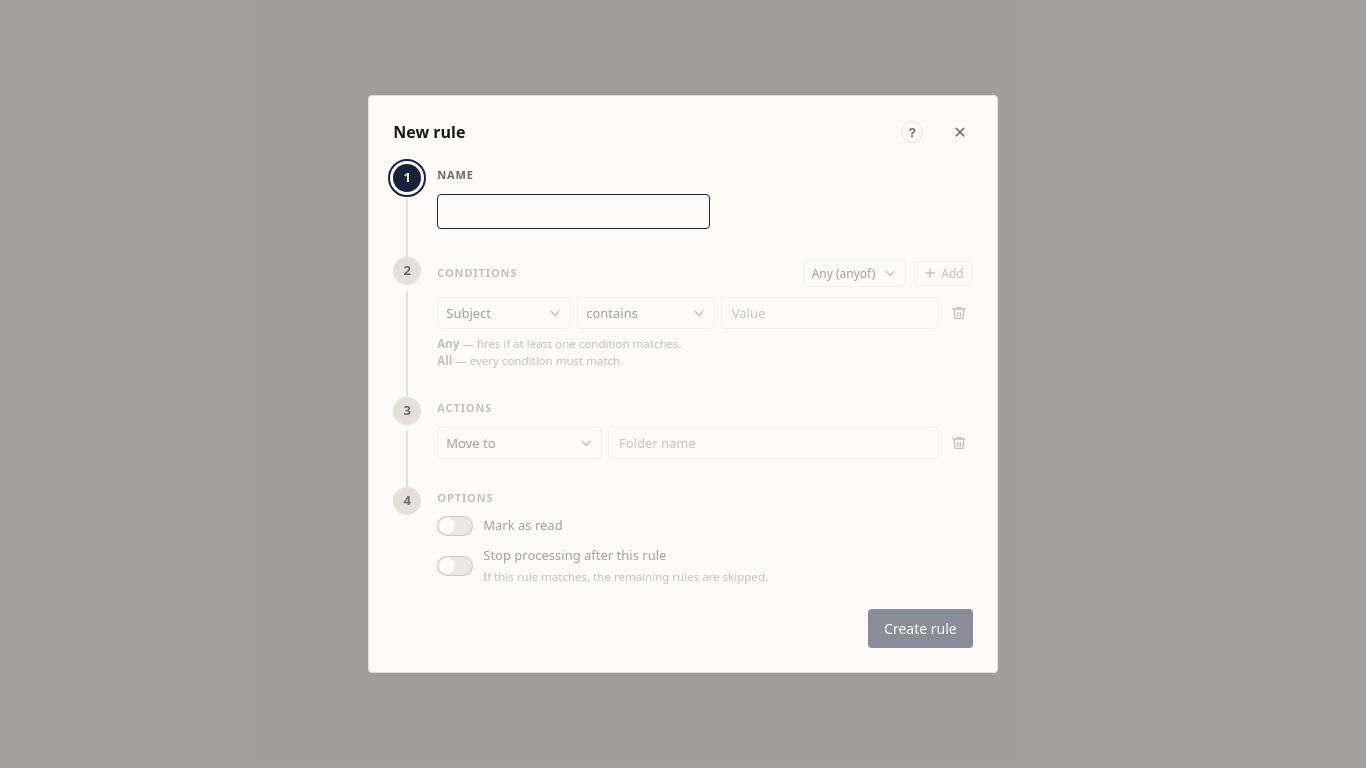
Test case: Wizard step gating › enables Create rule only once a valid action exists
The image size is (1366, 768).
In the 1st field: (573, 211) [437,194,710,229], type "My rule"
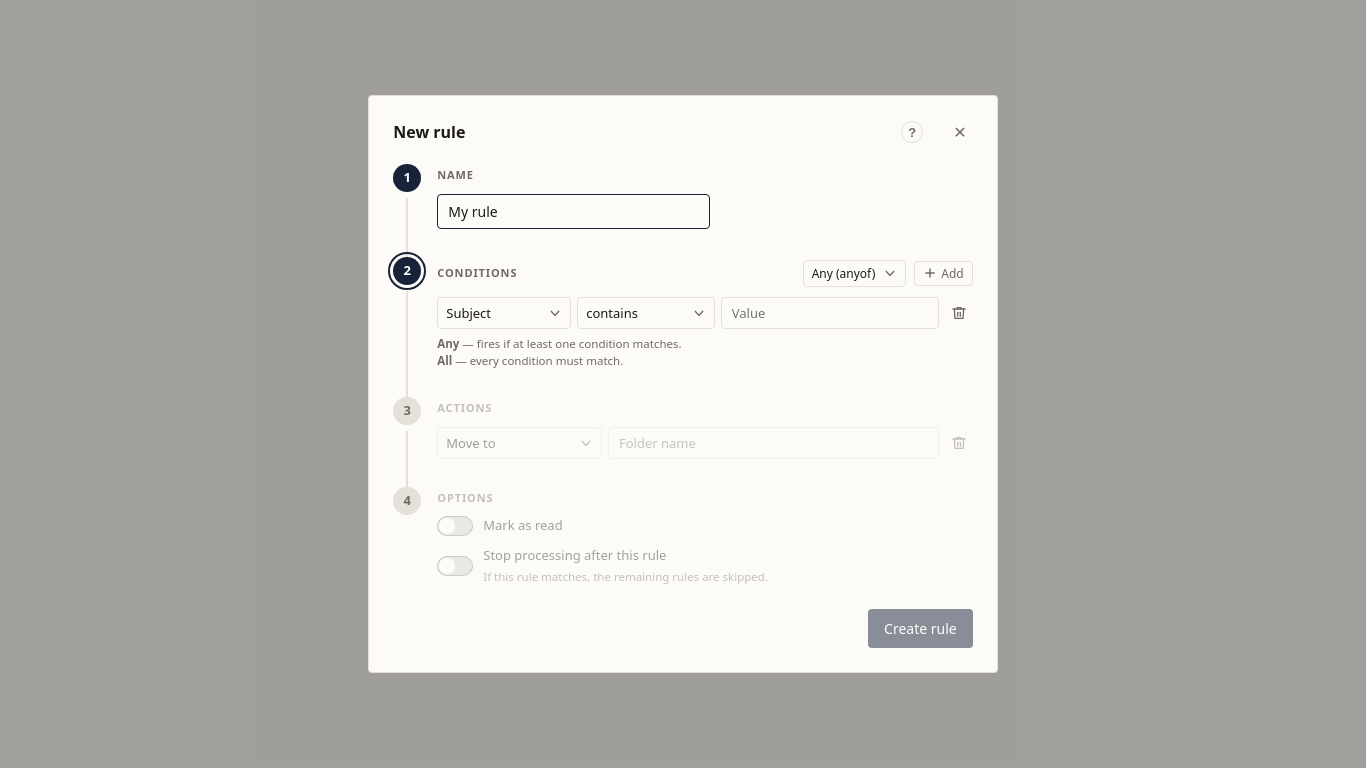
In the field with placeholder "Value": (830, 313) [721,297,939,329], type "urgent"
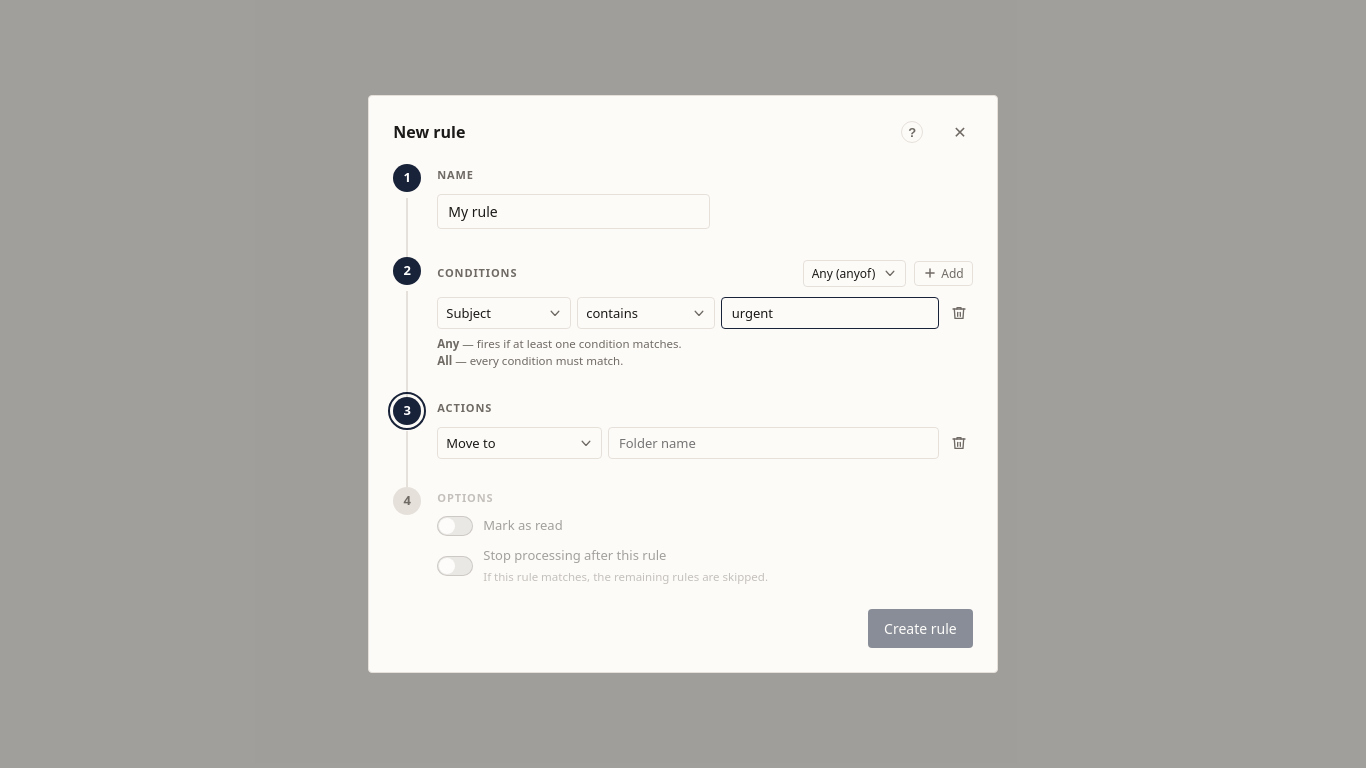
In the field with placeholder "Folder name": (773, 443) [608,427,939,459], type "Urgent"
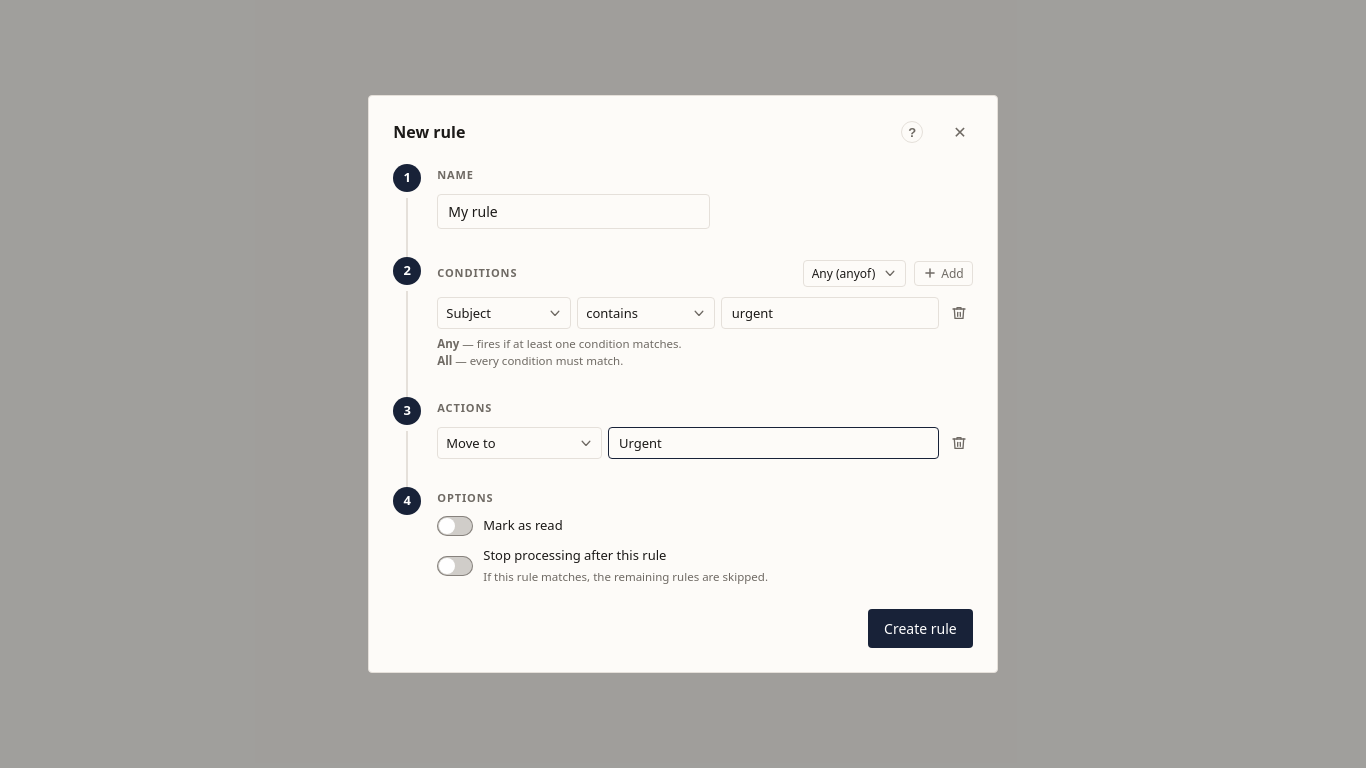
Now the button "Create rule" is enabled, box [868,609,973,648]
